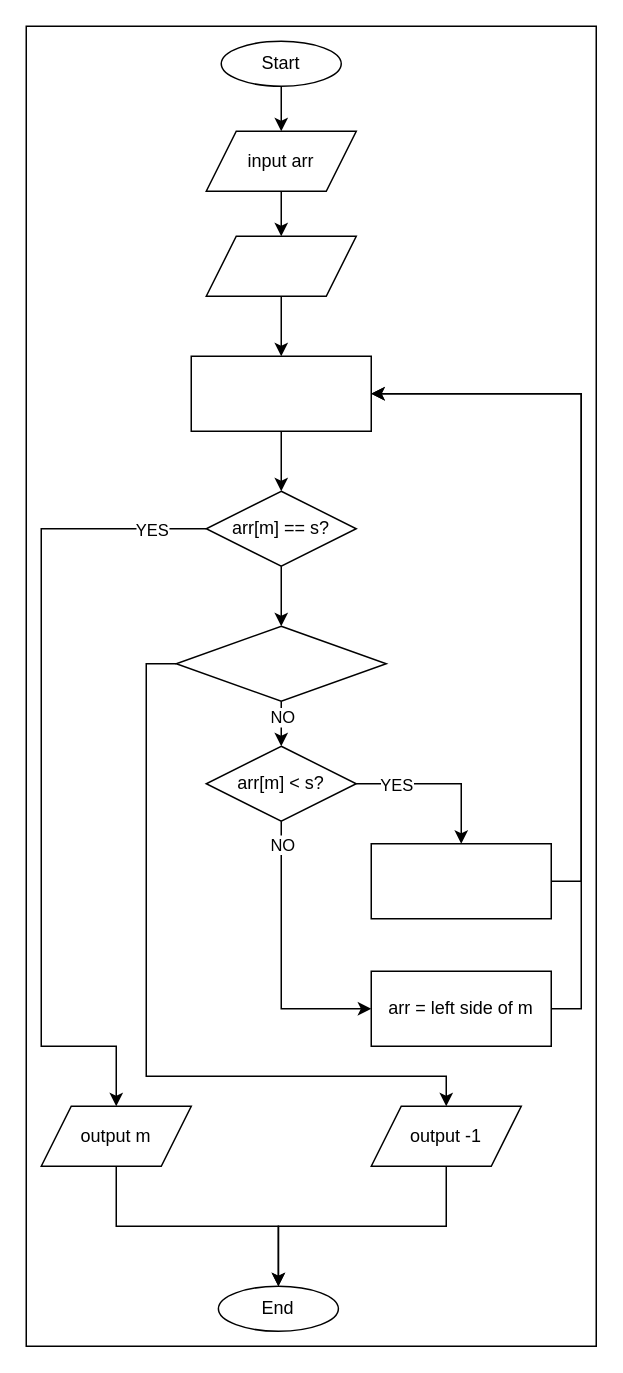
This 623x1373 diagram has some shape labels left out. The centre of each missing label's shape, as x and y in pixels:
arr = right side of m: point (460, 880)
arr.length == 1?: point (280, 663)
input s: point (280, 265)
m = middle of arr: point (280, 393)
